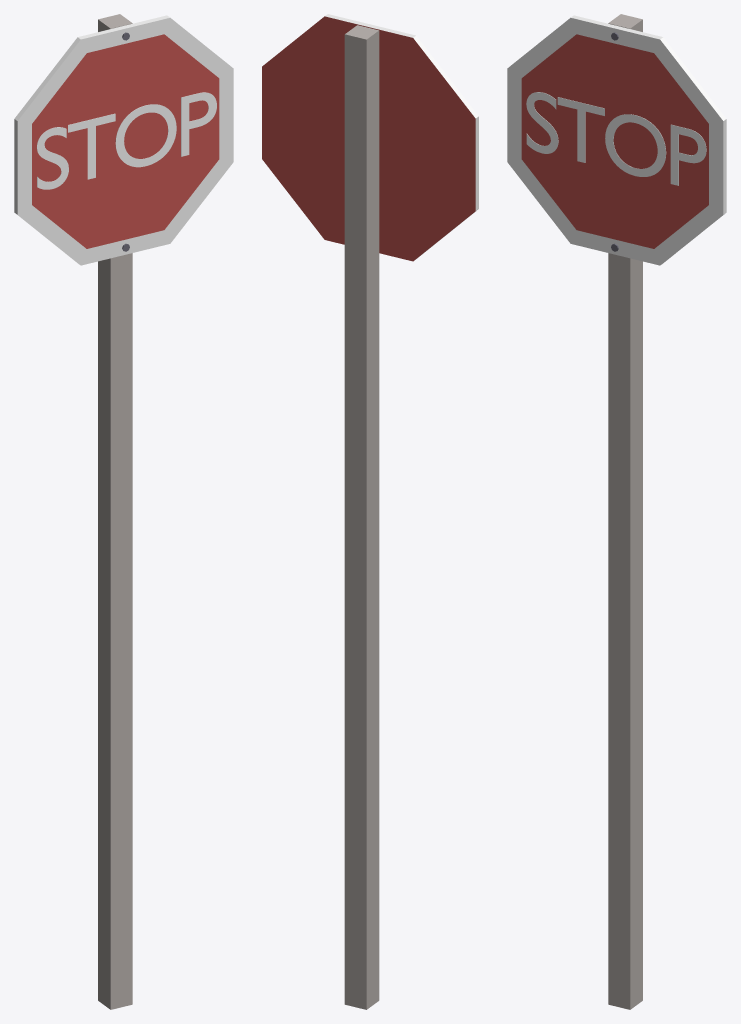
File: stopsign.fbx
3 renders of one model, left to right at view 1: azimuth 30°, elevation 25°; view 2: azimuth 150°, elevation 25°; view 3: azimuth 330°, elevation 25°, orthographic.
Parts seen in each view (by area): view 1: Cylinder, Text; view 2: Cylinder; view 3: Cylinder, Text.
Boxes of the visible parts, x1=… form: Cylinder: x1=14, y1=14, x2=233, y2=1009; Text: x1=36, y1=92, x2=216, y2=189; Cylinder: x1=262, y1=14, x2=478, y2=1009; Cylinder: x1=507, y1=14, x2=726, y2=1009; Text: x1=526, y1=92, x2=706, y2=185.
Bounding box in the file's own units: 69.29 × 301 × 9.71.
